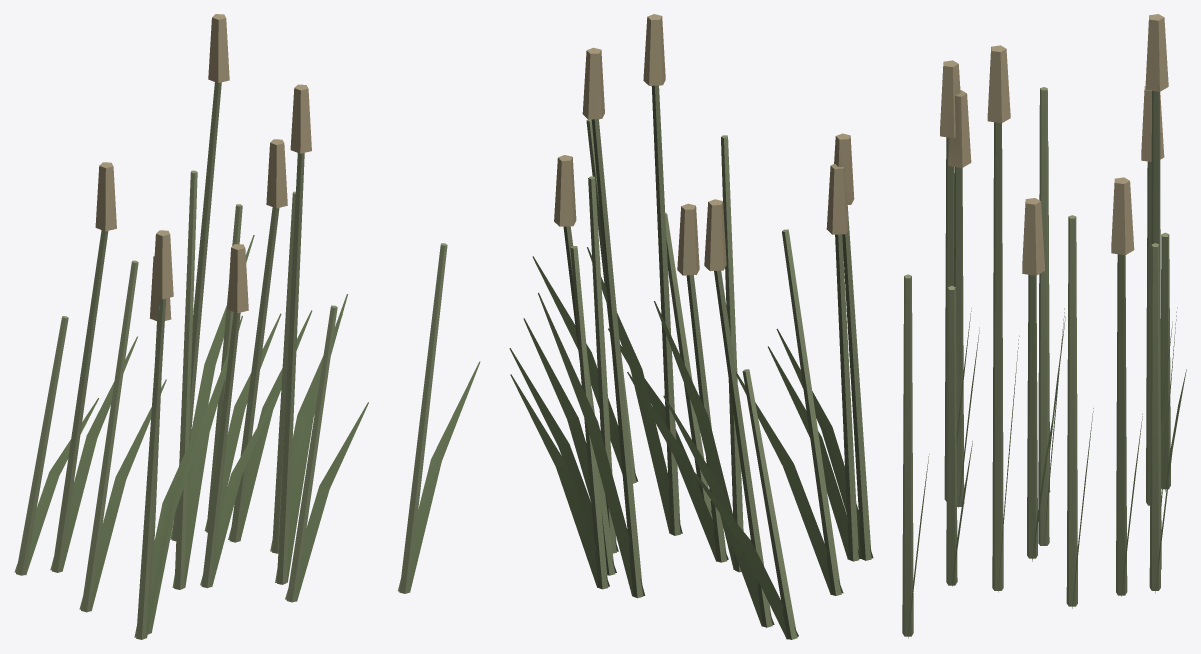
File: reeds.glb
3 views of the same model, side by side, from view 1: azimuth 30°, elevation 25°; view 2: azimuth 150°, elevation 25°; view 3: azimuth 270°, elevation 25° (orthographic). The views are drawn at different scales.
Parts seen in each view (by area): view 1: reeds.001; view 2: reeds.001; view 3: reeds.001.
Part boxes in pixels (box(x1,y1,x2,y2)): reeds.001: box(14, 14, 480, 639); reeds.001: box(509, 14, 873, 639); reeds.001: box(902, 14, 1186, 638).
Size of the model in its own units: 1.1 by 1.5 by 0.6683.
